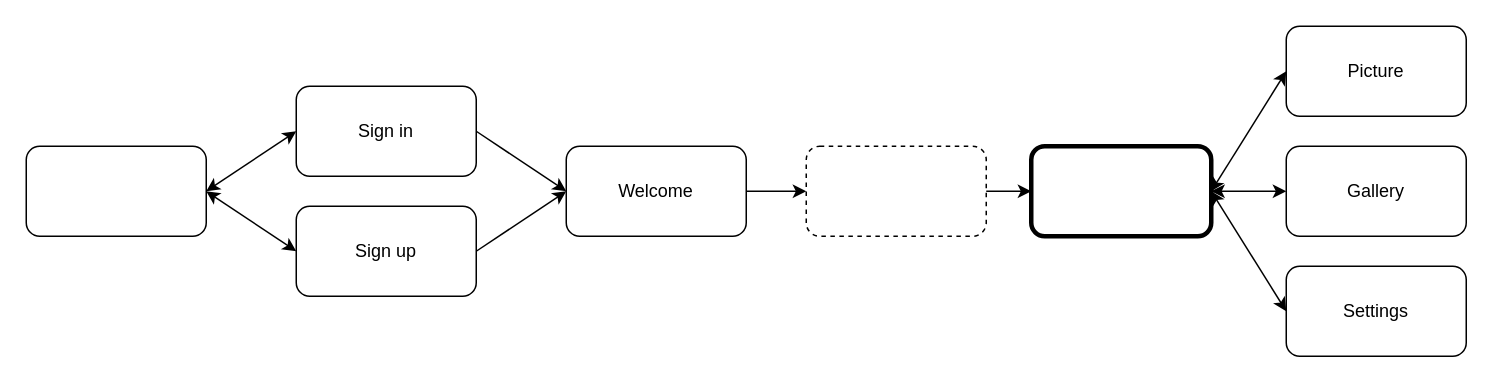
Some shapes in this 1493 by 383 pixel diagram are drawn without their labels. Here are the shapes that lost their labels. From the top down, the centre of each, then its label:
point (115, 190): Start
point (895, 190): Set Location Services
point (1120, 190): Location
